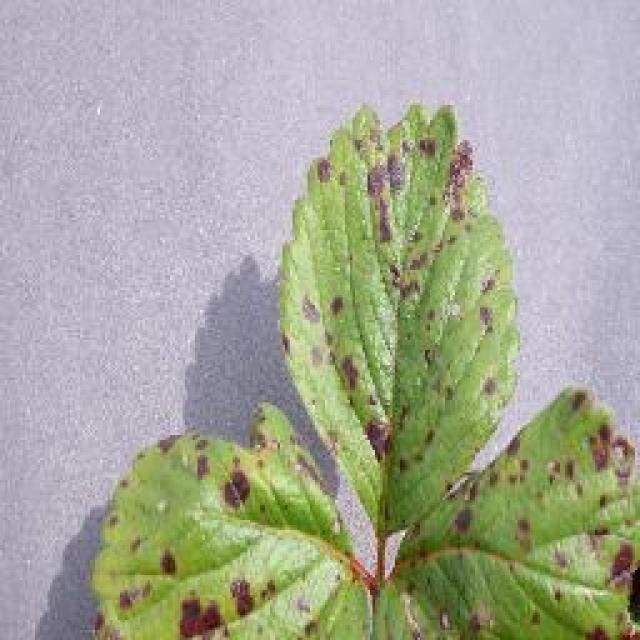Strawberry leaf scorch: (327, 154, 538, 604)
